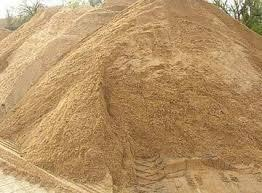sand: (102, 140, 125, 162), (208, 105, 230, 126), (58, 117, 80, 137), (150, 113, 172, 133), (184, 24, 206, 44), (188, 71, 207, 89), (80, 76, 96, 94)
